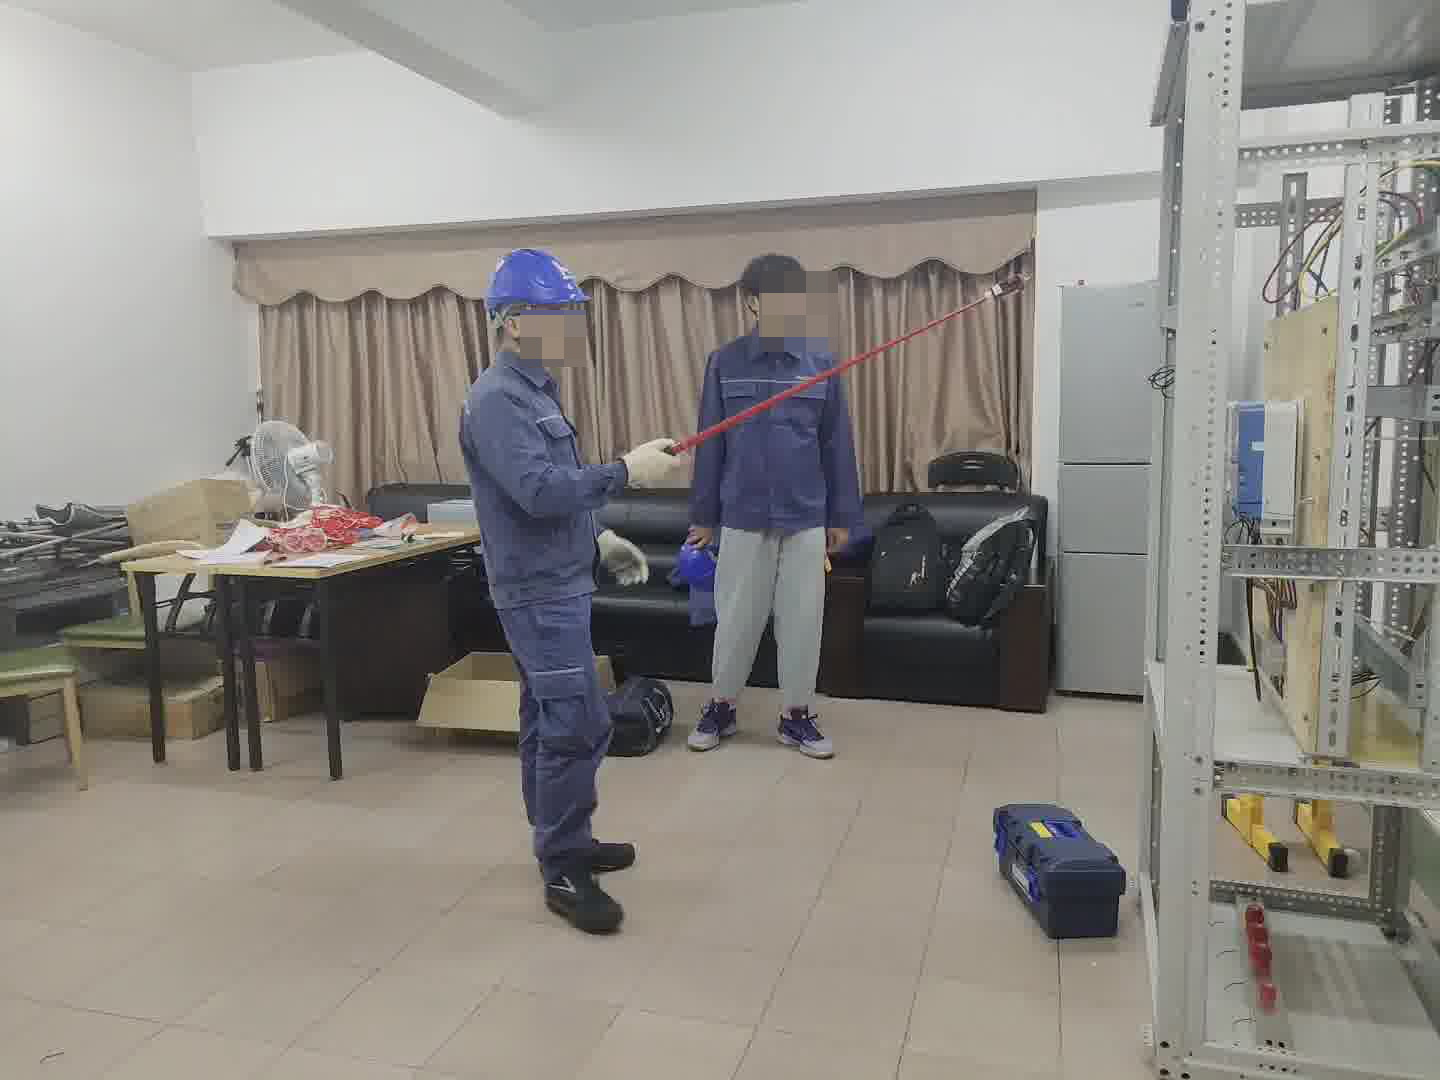downcloth: (708, 523, 837, 723)
downsuit: (495, 606, 612, 870)
halt: (481, 248, 595, 361)
hand: (679, 521, 717, 550), (824, 520, 852, 555)
inear: (497, 301, 545, 362)
noear: (741, 286, 775, 338)
person: (452, 244, 634, 911), (672, 249, 870, 748)
testrod: (658, 267, 1036, 455)
unhalt: (735, 251, 813, 338)
upsuit: (457, 352, 628, 594), (680, 328, 866, 535)
wglove: (614, 435, 693, 499), (592, 520, 647, 594)
